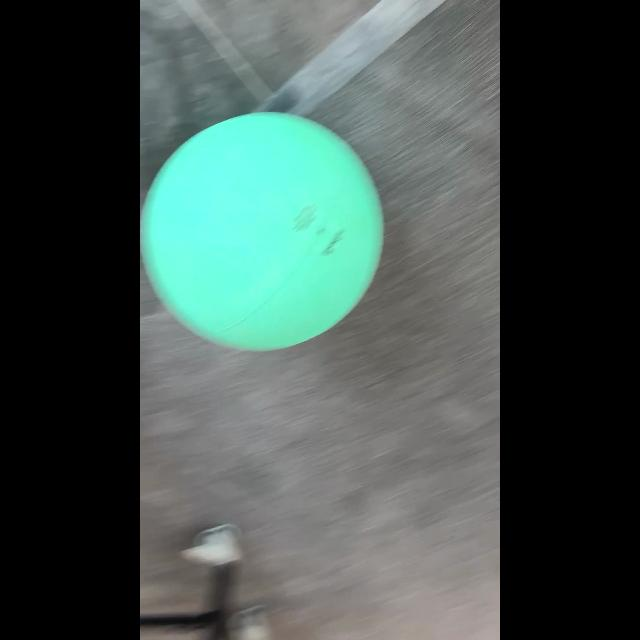ALGAE: (141, 111, 385, 353)
